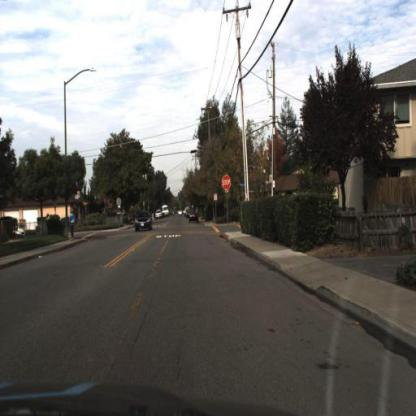car: (134, 207, 154, 235), (10, 219, 30, 242), (188, 211, 202, 227), (155, 208, 165, 222)
pedestrian: (65, 205, 78, 244), (67, 204, 78, 242)
